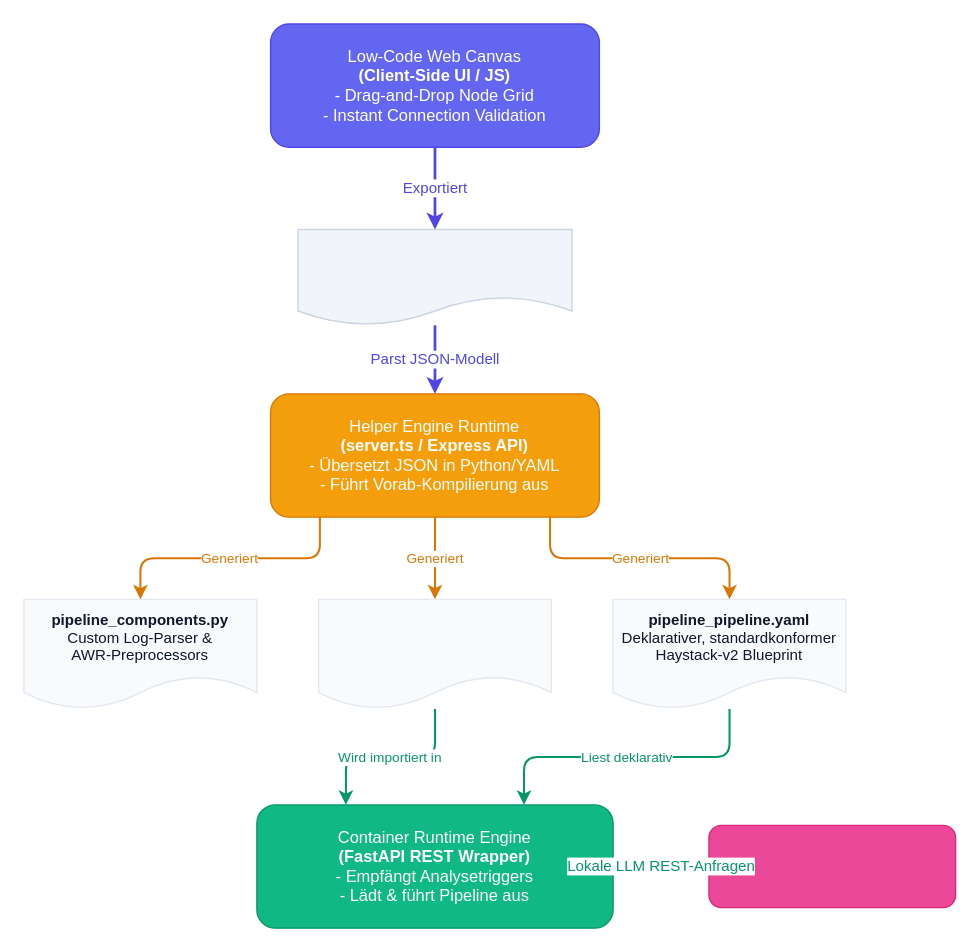
This 980x952 diagram has some shape labels left out. The centre of each missing label's shape, as x and y in pixels:
"Diagramm JSON Schnittstellen-Datenstruktur (Nodes, Ports, Parameter)" goes at point (434, 276).
"Lokale LLM API (Ollama / LocalAI) - On-Premise Llama-3 - 100% datenschutzkonform" goes at point (832, 866).
"pipeline_pipeline.py Python-Skript zur Graph-Instanziierung" goes at point (434, 653).
